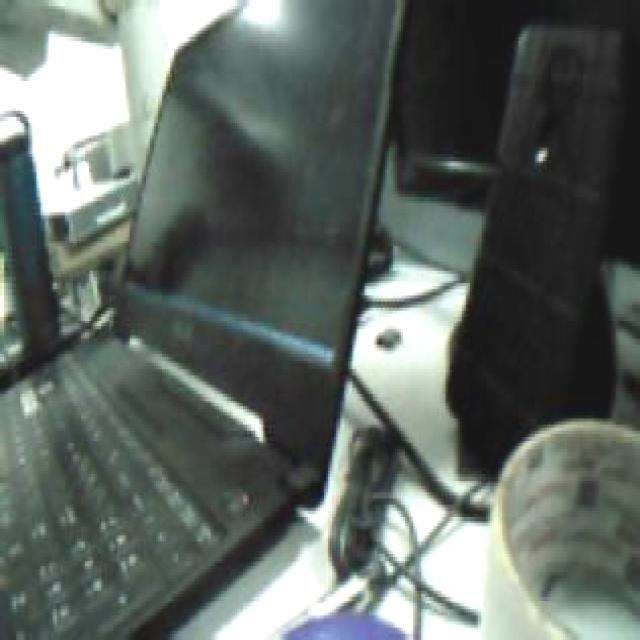BallPurple: (274, 606, 413, 640)
